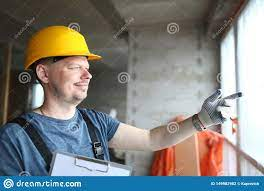Helmet: (17, 26, 115, 72)
No-jacket: (4, 102, 121, 186)
gloves: (192, 87, 245, 133)
